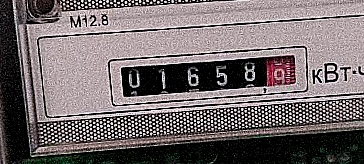0: (126, 66, 141, 89)
1: (156, 66, 168, 89)
5: (213, 62, 229, 86)
6: (184, 64, 200, 87)
8: (241, 59, 257, 82)
9: (269, 65, 285, 87)
screen: (101, 35, 317, 114)
